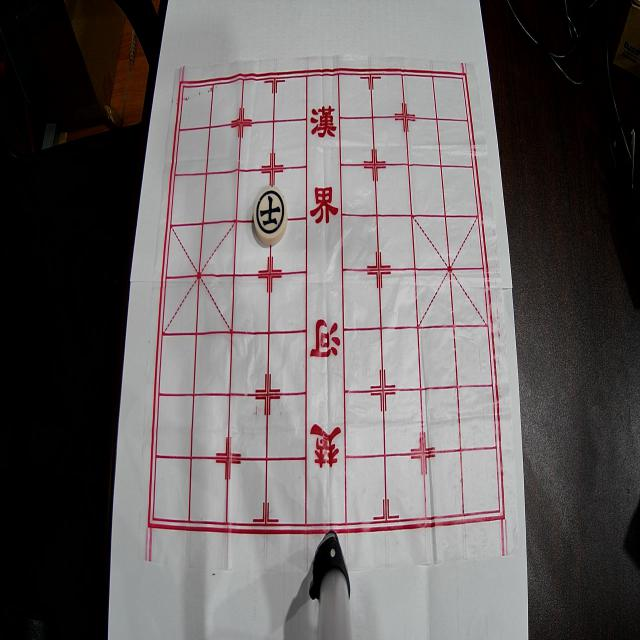black-guard: (254, 187, 288, 245)
